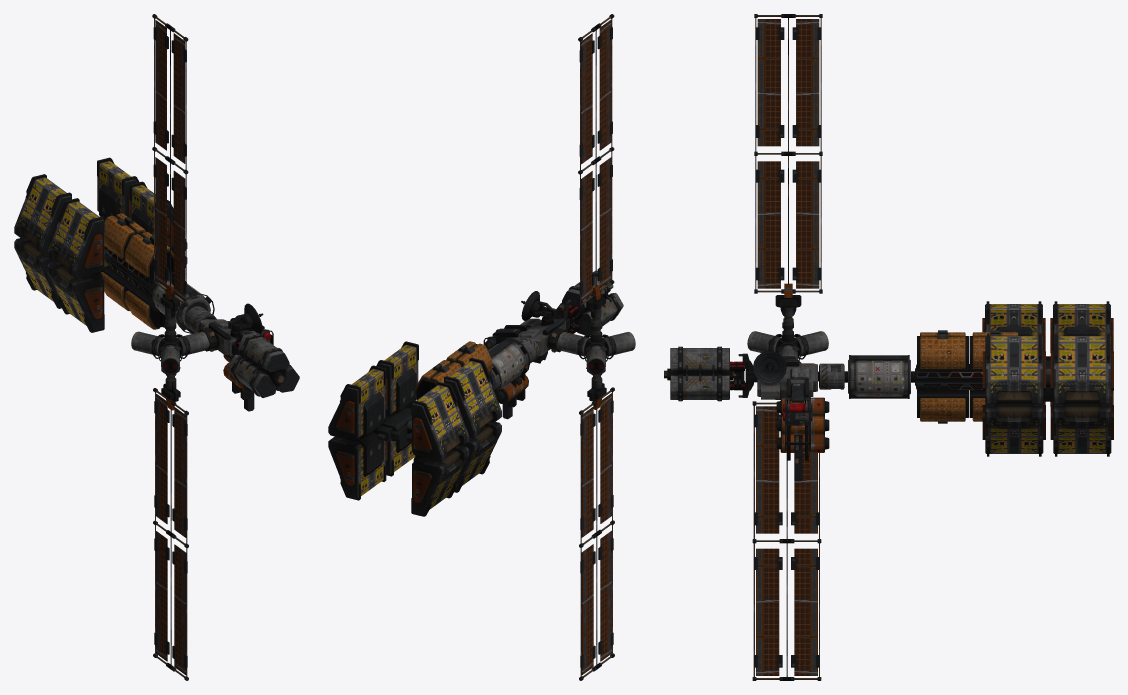
Rendered from station05.fbx.
The picture shows the model from 3 angles, left to right: view 1: azimuth 30°, elevation 25°; view 2: azimuth 150°, elevation 25°; view 3: azimuth 270°, elevation 25°; orthographic projection. The views are drawn at different scales.
Parts seen in each view (by area): view 1: MS6_Service; view 2: MS6_Service; view 3: MS6_Service.
Part boxes in pixels (box(x1,y1,x2,y2)): MS6_Service: box(14, 14, 299, 680); MS6_Service: box(328, 14, 635, 680); MS6_Service: box(664, 14, 1113, 680).
Size of the model in its own units: 2863 by 12852 by 7856.
